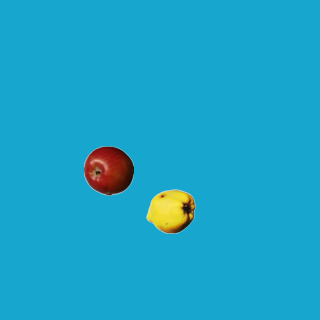Apple Braeburn: (83, 145, 133, 195)
Quince: (145, 186, 195, 236)
